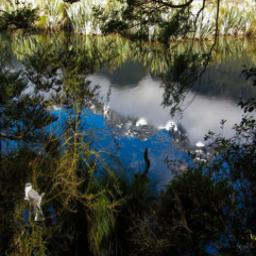Cuckoo: (25, 182, 46, 221)
